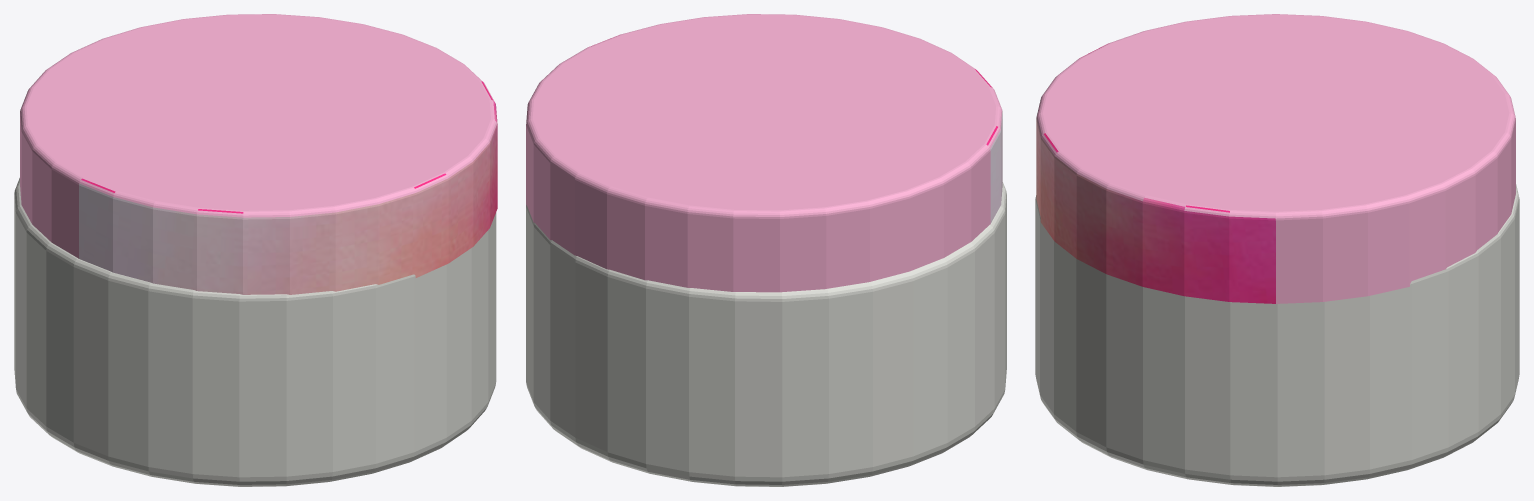
File: Small cream package.glb
The picture shows the model from 3 angles, left to right: view 1: azimuth 30°, elevation 25°; view 2: azimuth 150°, elevation 25°; view 3: azimuth 270°, elevation 25°; orthographic projection.
Visible parts, largest first — view 1: Circle.001, Circle; view 2: Circle.001, Circle; view 3: Circle.001, Circle.
Boxes of the visible parts, x1,y1,x2,y2 form: Circle.001: [20, 14, 497, 294]; Circle: [14, 178, 496, 486]; Circle.001: [526, 14, 1002, 292]; Circle: [526, 182, 1006, 486]; Circle.001: [1036, 14, 1515, 303]; Circle: [1035, 184, 1519, 486].
Size of the model in its own units: 7.78 by 4.93 by 7.76.
2 materials, 2 textured.
